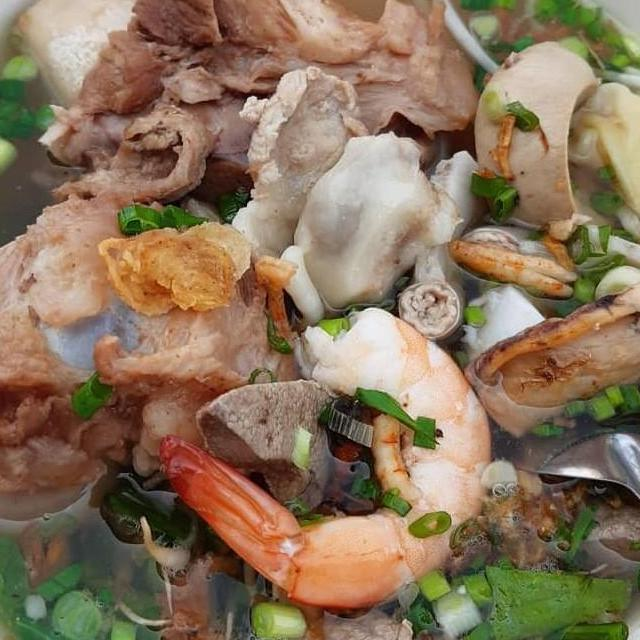thit heo: (0, 159, 326, 534), (17, 0, 490, 213), (202, 54, 422, 324), (224, 580, 459, 640)
tom: (150, 297, 502, 624)
